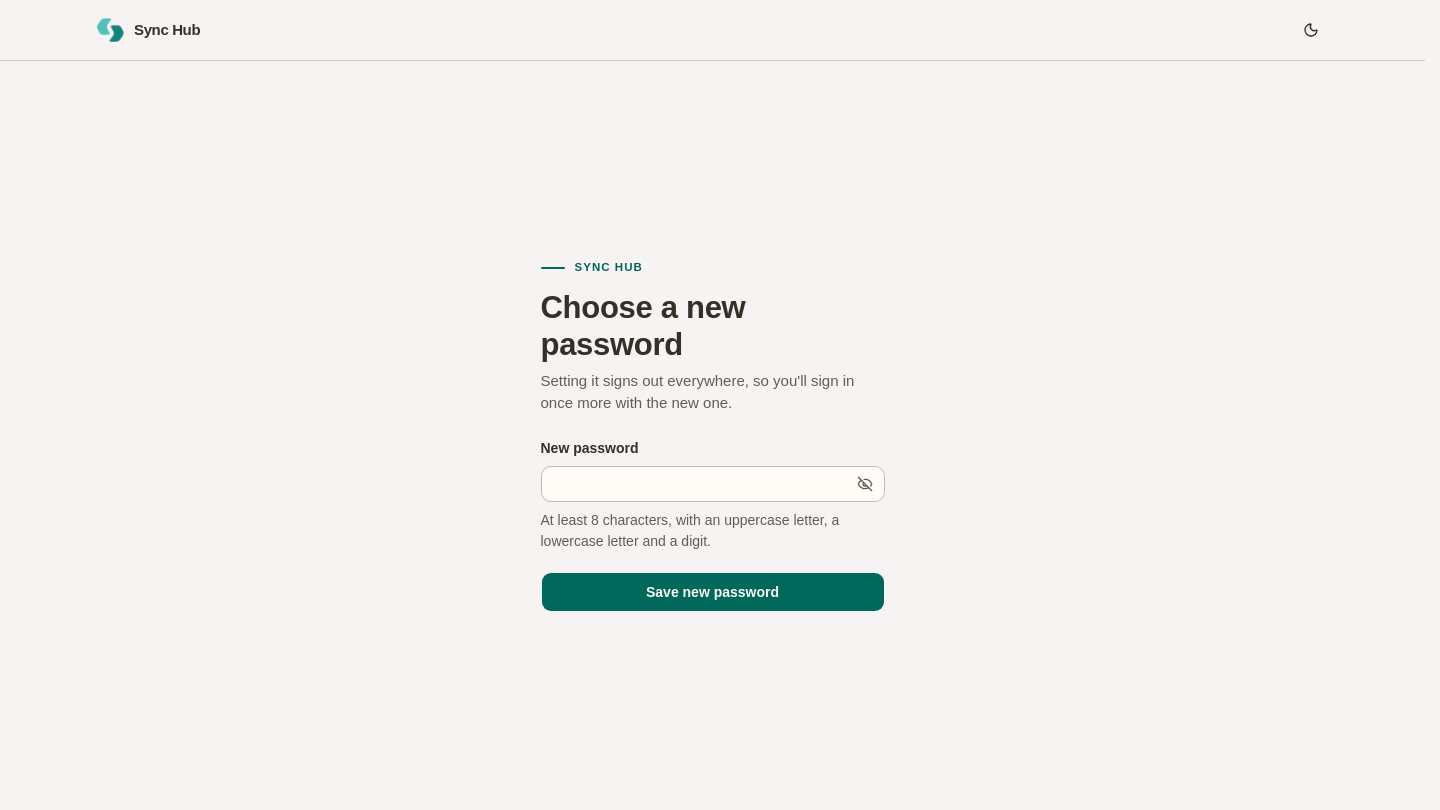
Test: choosing a new password › holds a too-short password at the form
In the password field labelled "New password": (712, 484) [540, 466, 884, 502], type "short"
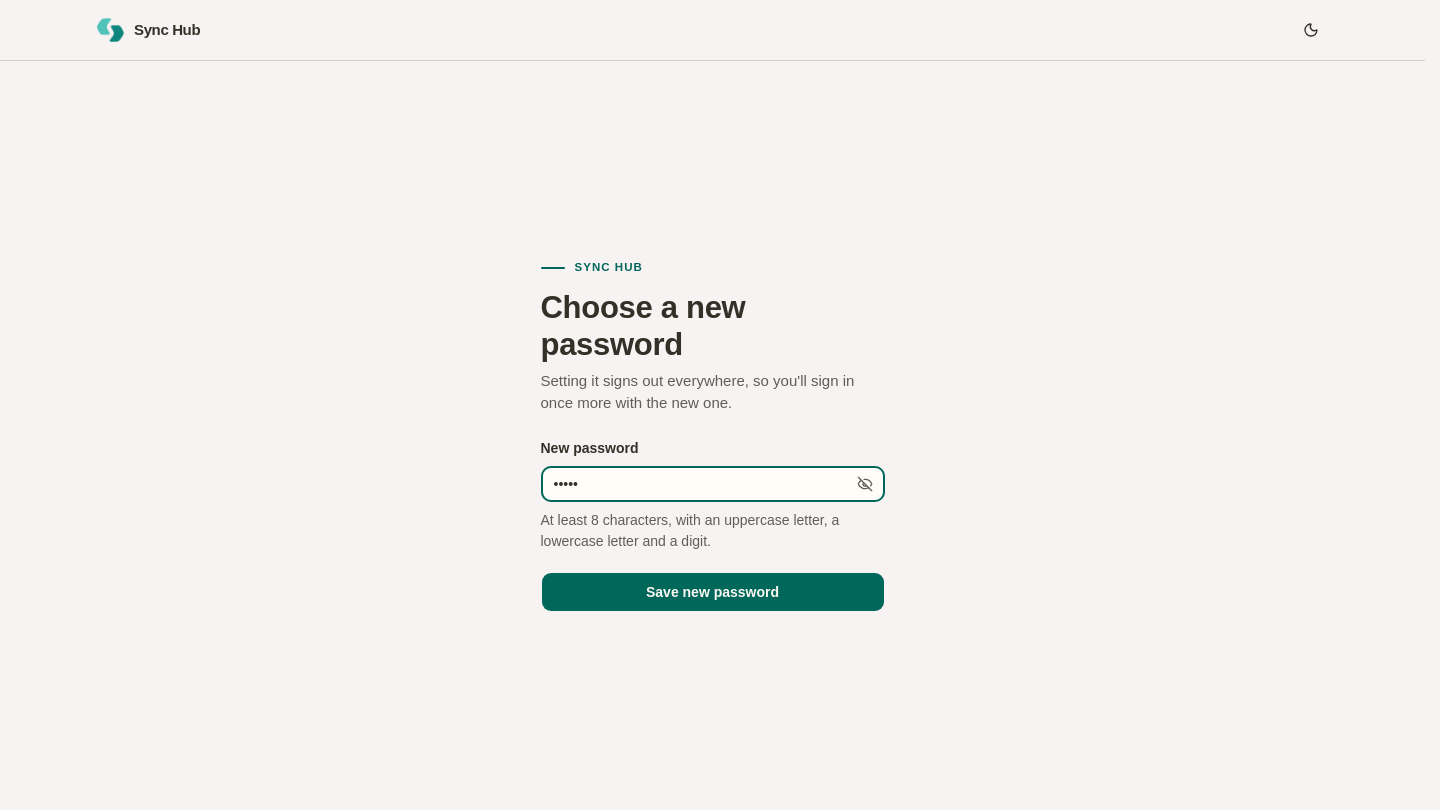
Click the button "Save new password": (712, 592) [540, 572, 884, 612]
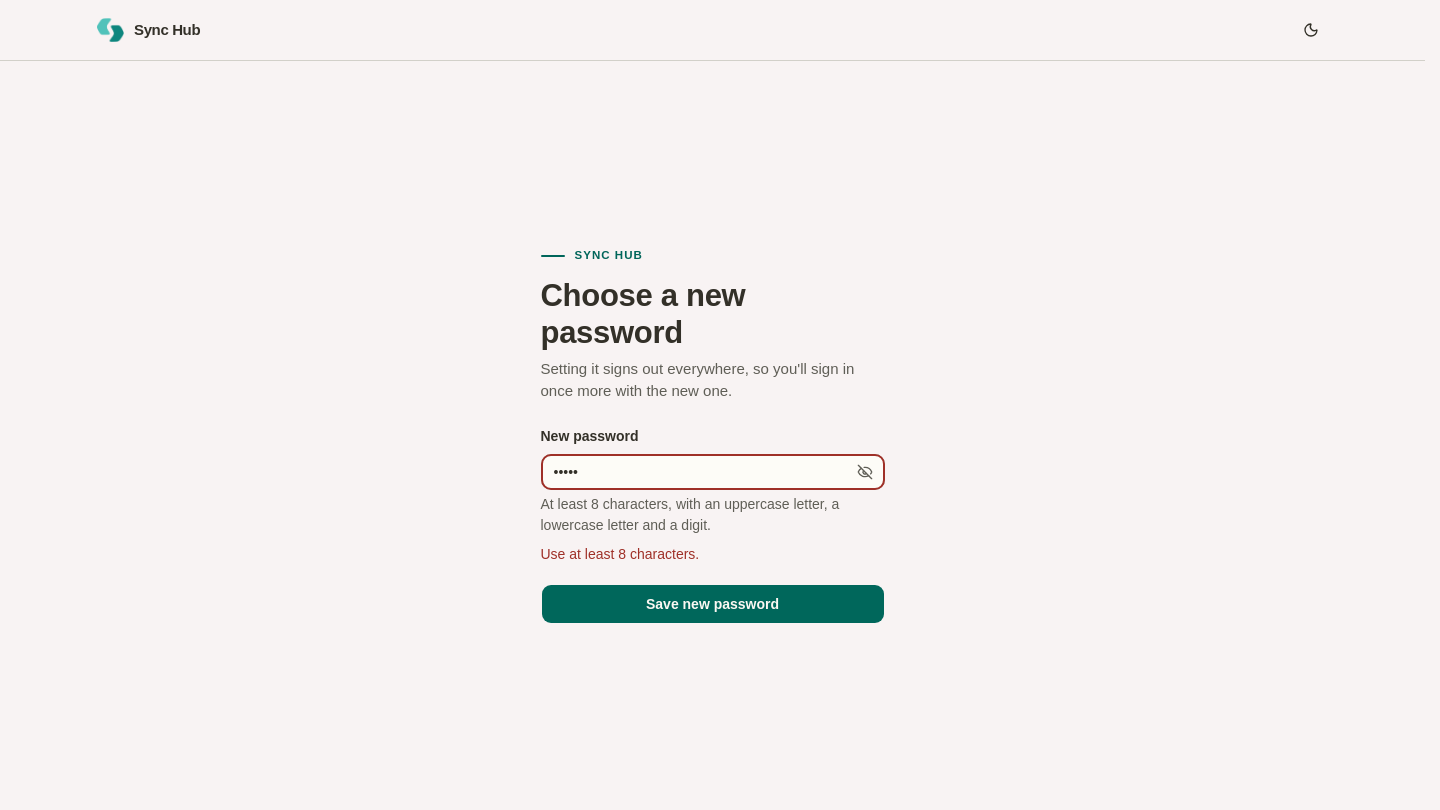
Now the text "Use at least 8 characters." is shown, box [540, 546, 699, 562]
